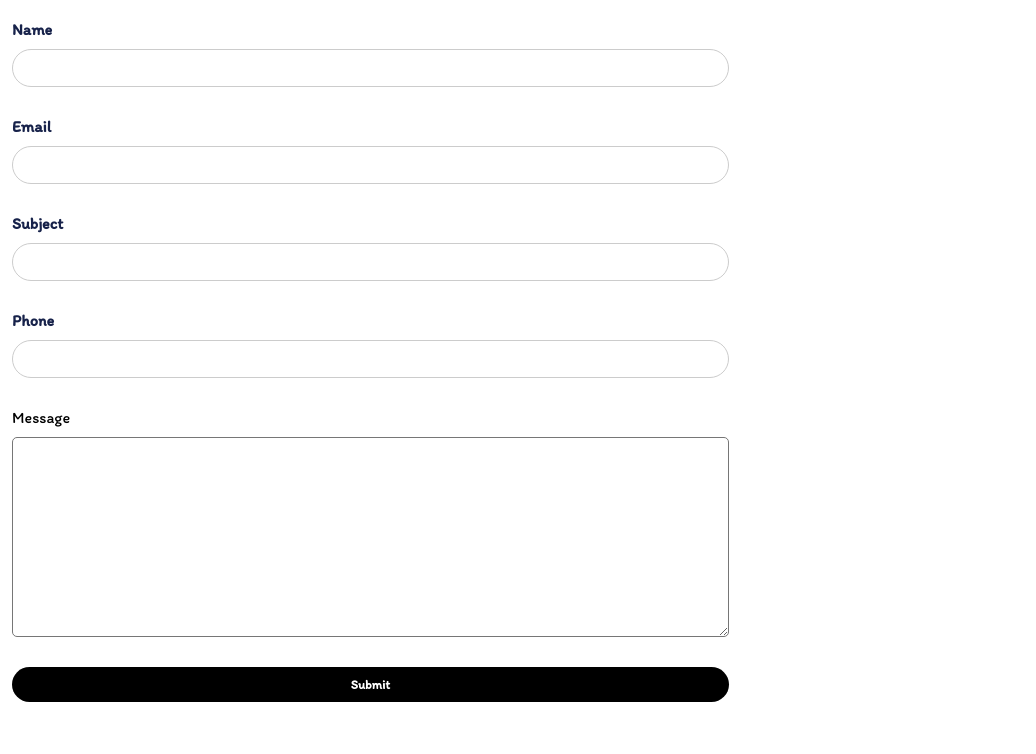
EnquiryForm › displays error messages for required fields
Click the button "Submit".
click(370, 684)  # box x1=12 y1=667 x2=729 y2=702
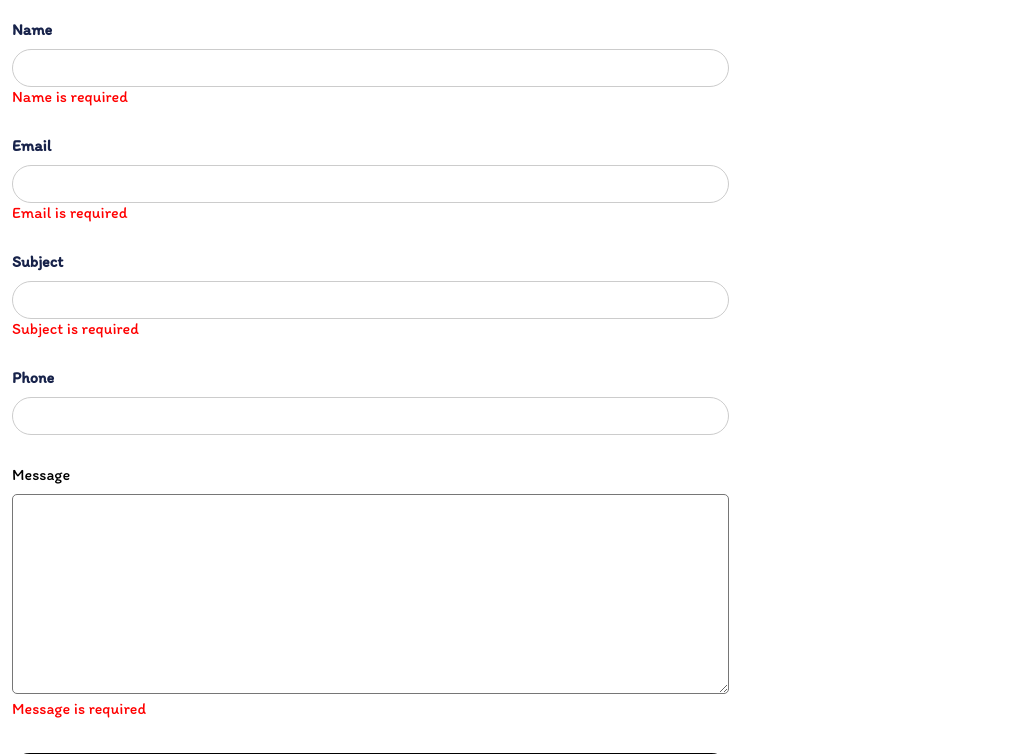
Expected: the text "Name is required" is shown, x1=12 y1=87 x2=128 y2=106
Expected: the text "Email is required" is shown, x1=12 y1=203 x2=128 y2=222
Expected: the text "Subject is required" is shown, x1=12 y1=319 x2=139 y2=338
